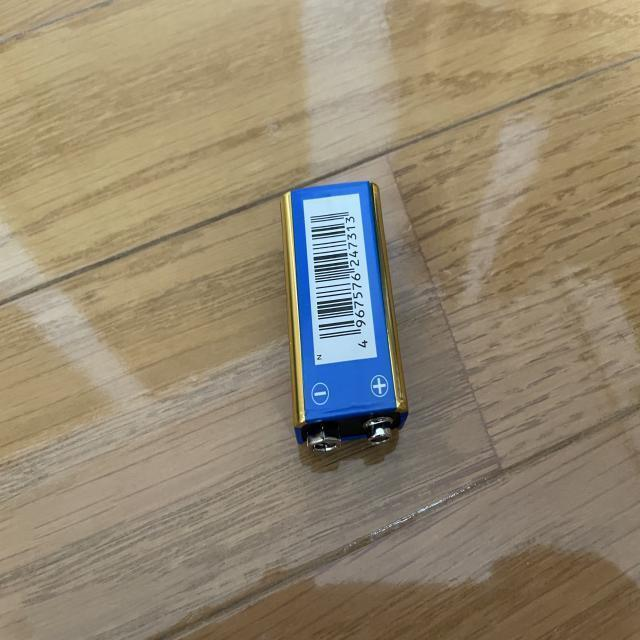9V: (280, 177, 406, 455)
